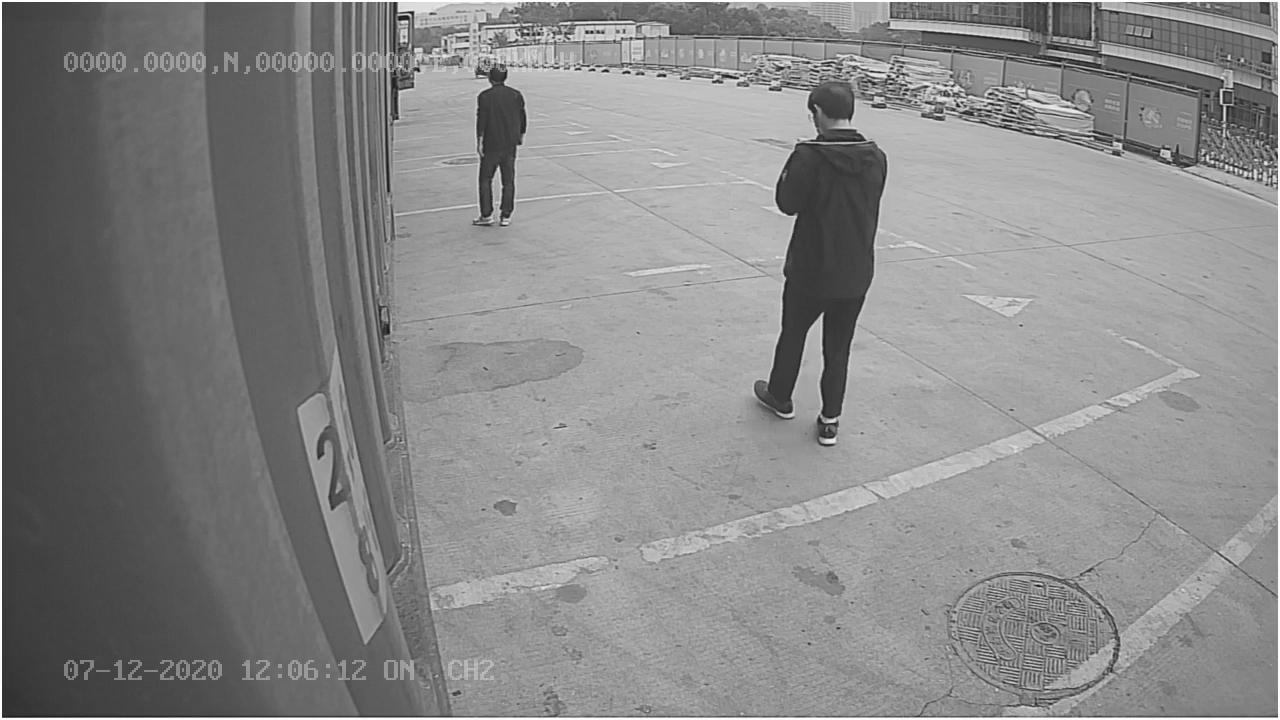person: (752, 77, 891, 447)
